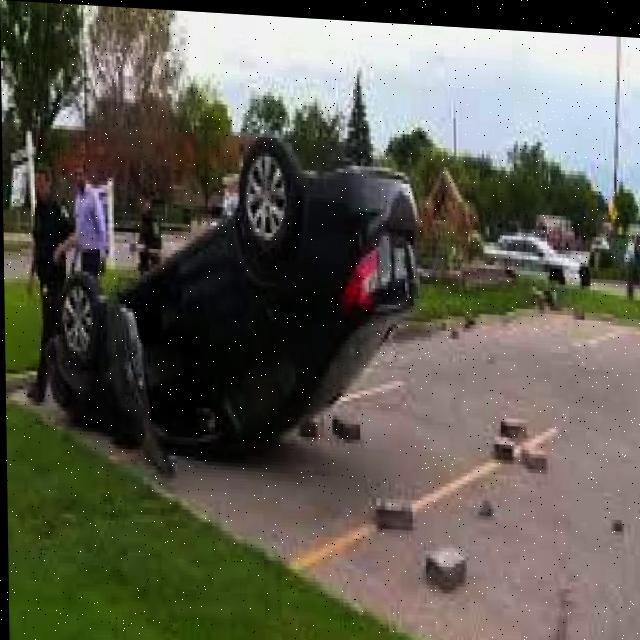single accident: (59, 140, 424, 437)
